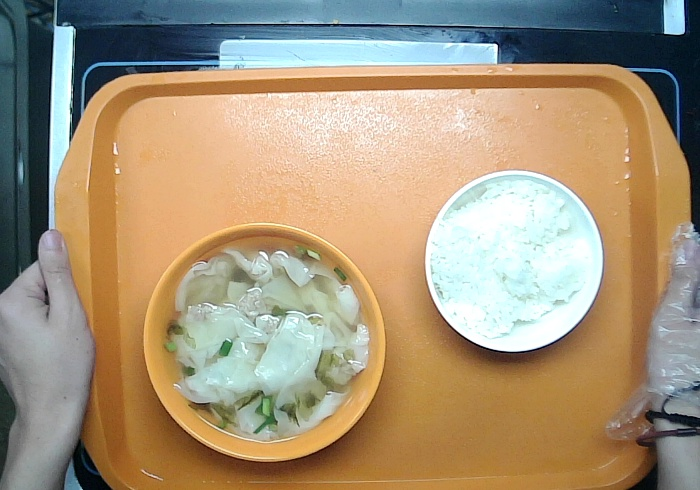NLDX-Fan_Wan: (421, 170, 619, 348)
NLDX-Hun_Tun_Wan: (135, 220, 386, 464)
